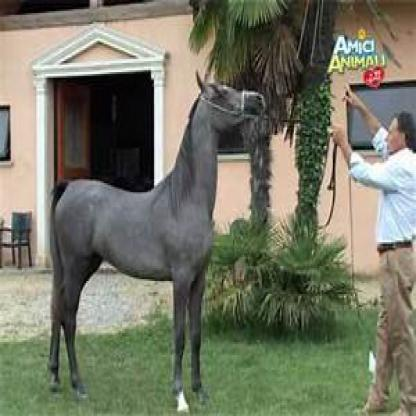horse: (47, 63, 269, 414)
